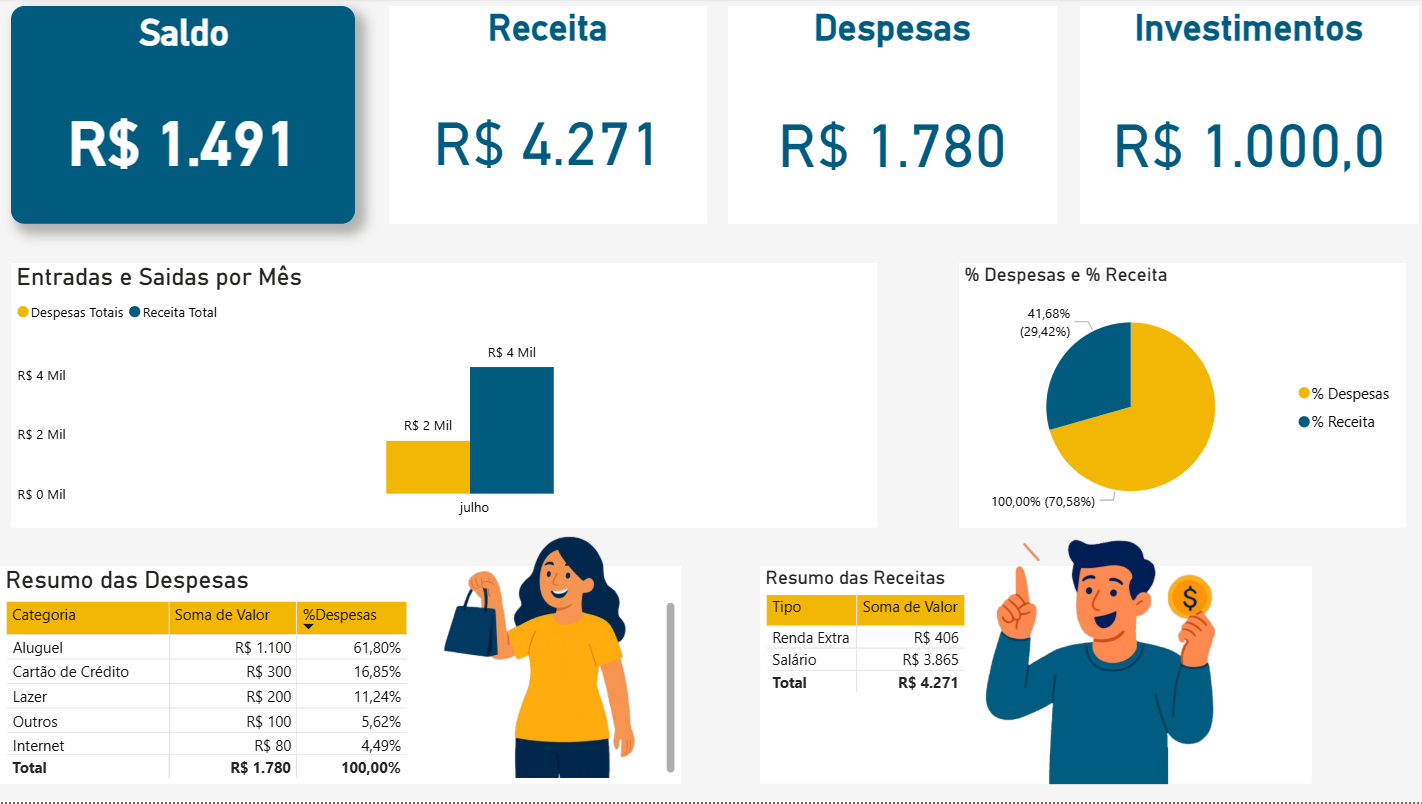

Layout of this report page (visuals, bound fields, positions):
{"tool":"powerbi","page":{"name":"Página 1","canvas":[1280,720],"ordinal":0},"visuals":[{"type":"card","title":"Saldo","fields":{"Values":["Despesas.Saldo do Mês"]},"box":[9.9,7.2,308.1,195.2],"z":0},{"type":"card","title":"Receita","fields":{"Values":["Calendario.Receita Total"]},"box":[348.4,7.2,284.8,195.2],"z":1000},{"type":"card","title":"Despesas","fields":{"Values":["Calendario.Despesas Totais"]},"box":[651.9,7.2,294.6,195.2],"z":2000},{"type":"card","title":"Investimentos","fields":{"Values":["Despesas.Investimentos Totais"]},"box":[967.2,7.2,302.7,195.2],"z":3000},{"type":"tableEx","title":"Resumo das Despesas","fields":{"Values":["Despesas.Categoria","Sum(Despesas.Valor)","Despesas.% Despesas"]},"box":[0,508.7,609.9,195.2],"z":4000},{"type":"pieChart","fields":{"Y":["Despesas.% Despesas","Despesas.% Receita"]},"box":[858.9,237.5,399.5,236.6],"z":5000},{"type":"tableEx","title":"Resumo das Receitas","fields":{"Values":["Entradas.Tipo","Sum(Entradas.Valor)"]},"box":[680.2,508.5,493.7,195.3],"z":6000},{"type":"image","box":[874.9,360,233.7,351],"z":7000},{"type":"image","box":[293.7,381.5,377.9,322.4],"z":8000},{"type":"clusteredColumnChart","title":"Entradas e Saidas por Mês","fields":{"Category":["Despesas.Data.Variation.Hierarquia de datas.Mês","Entradas.Data.Variation.Hierarquia de datas.Mês"],"Y":["Calendario.Despesas Totais","Calendario.Receita Total"]},"box":[9.8,237.5,776.4,236.6],"z":9000}]}

Visuals, with their boxes in screenshot pixels (x1, y1, x2, y2), scaled from the page's 1280x720 canvas onto the 1422x804 screenshot:
"Saldo" card: 11/8/353/226
"Receita" card: 387/8/703/226
"Despesas" card: 724/8/1052/226
"Investimentos" card: 1074/8/1411/226
"Resumo das Despesas" tableEx: 0/568/678/786
pieChart - Despesas.% Despesas x Despesas.% Receita: 954/265/1398/529
"Resumo das Receitas" tableEx: 756/568/1304/786
image: 972/402/1232/794
image: 326/426/746/786
"Entradas e Saidas por Mês" clusteredColumnChart: 11/265/873/529
